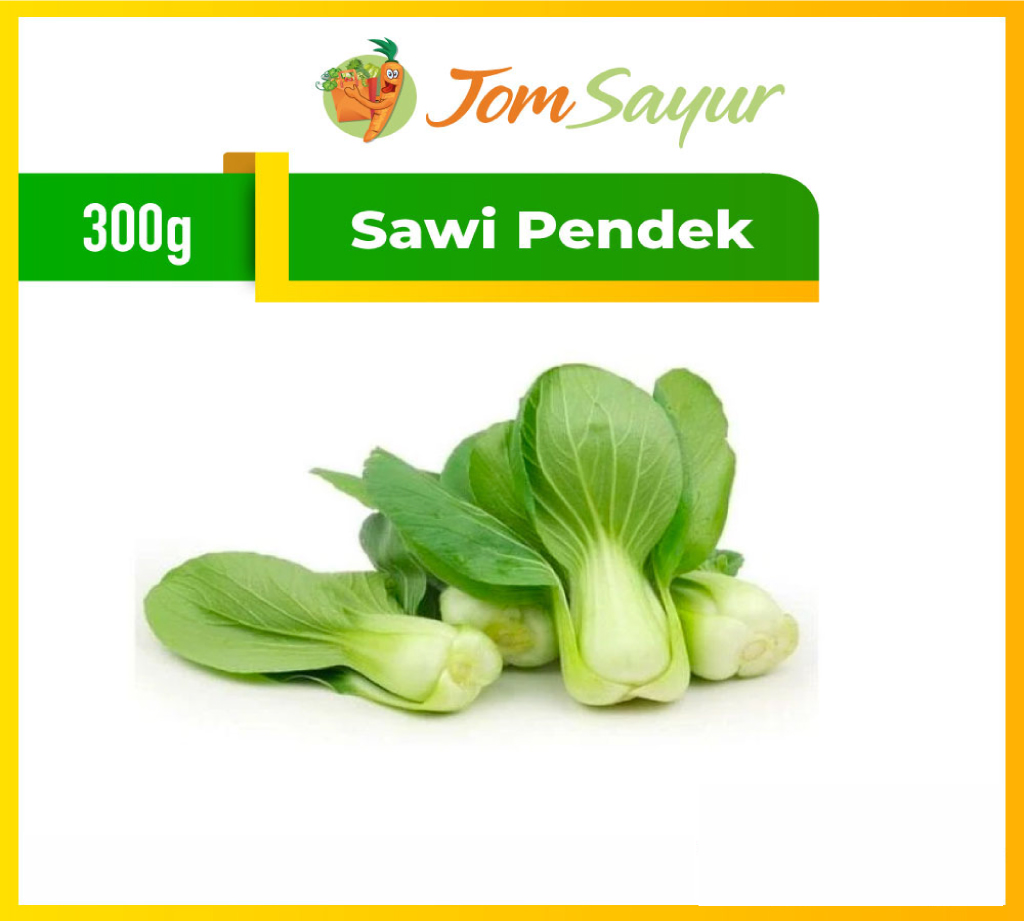Sawi: (165, 356, 910, 755)
